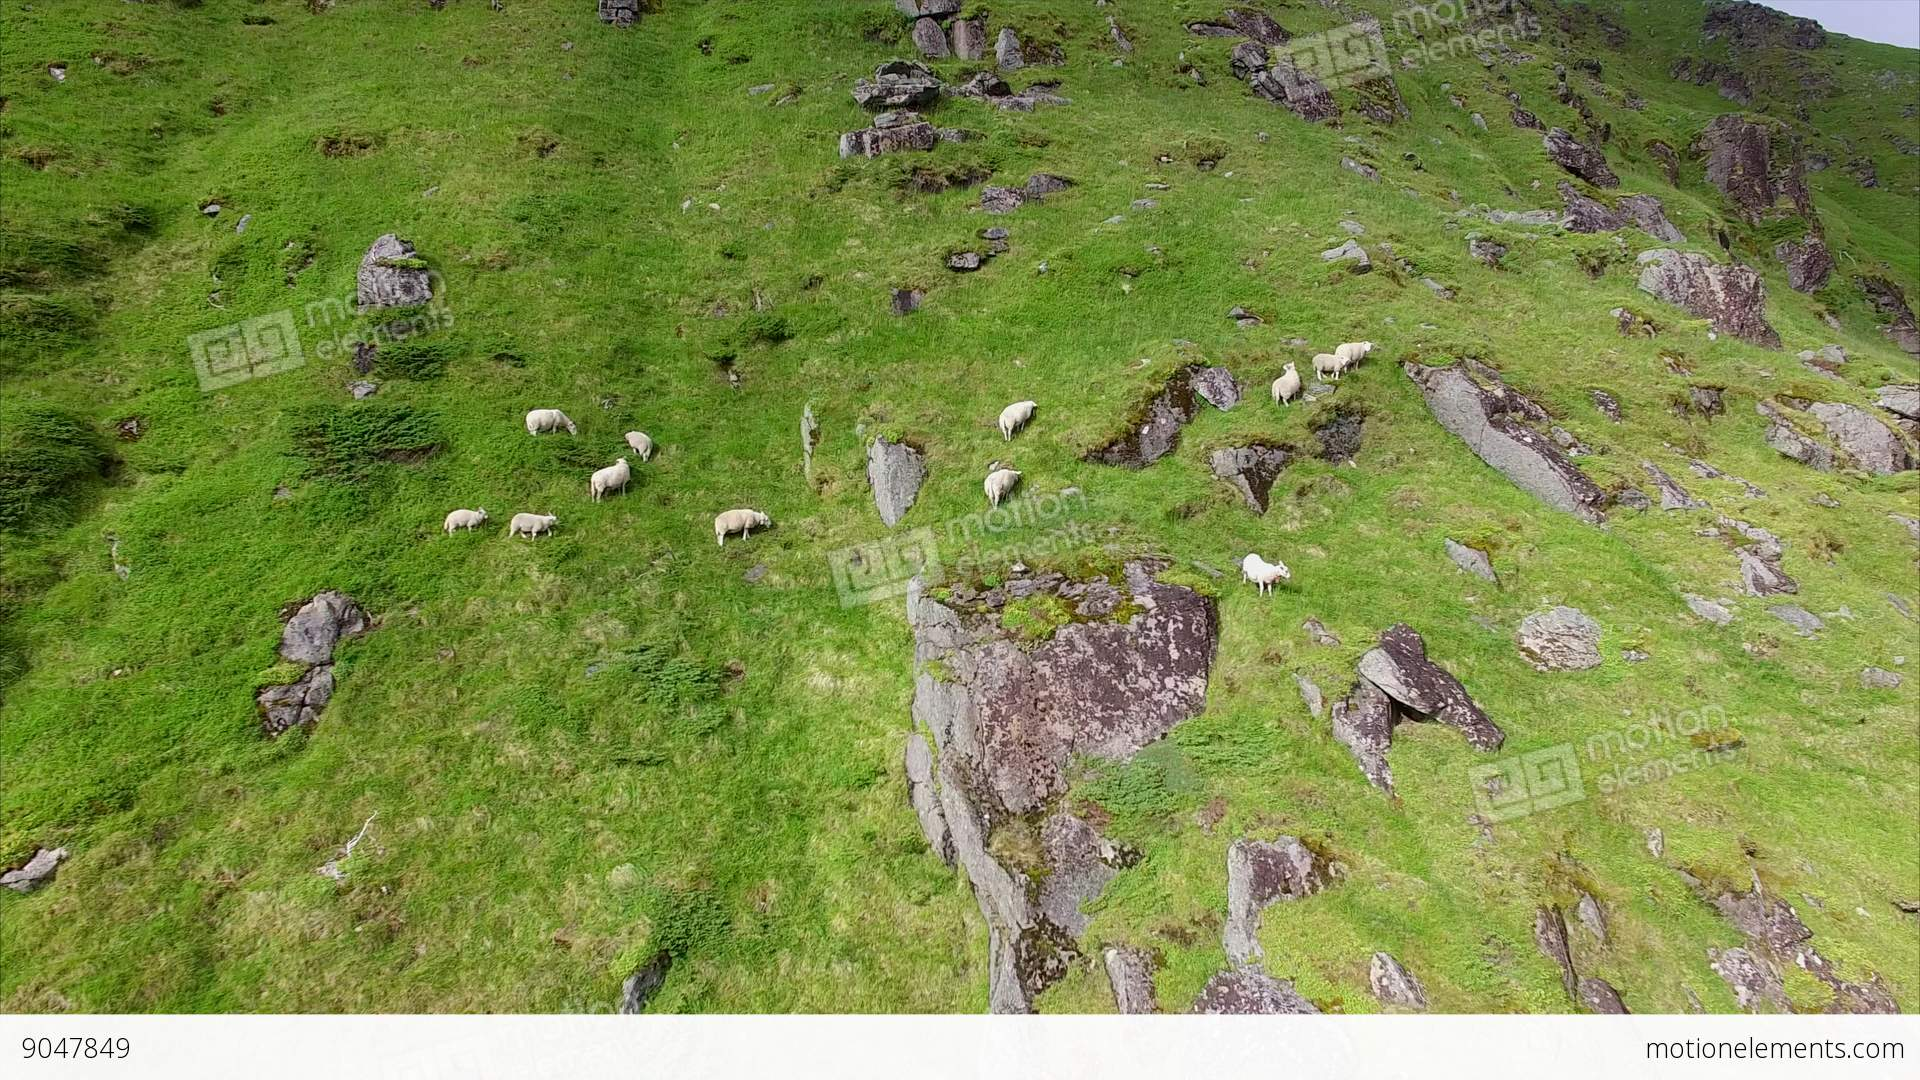sheep: (713, 505, 773, 547), (1240, 553, 1291, 596), (589, 458, 630, 504), (998, 397, 1038, 440), (982, 465, 1022, 508), (506, 512, 559, 541), (524, 409, 576, 438), (443, 506, 489, 535), (1269, 363, 1300, 405), (1308, 353, 1348, 382), (1333, 338, 1373, 365), (625, 426, 651, 462)
